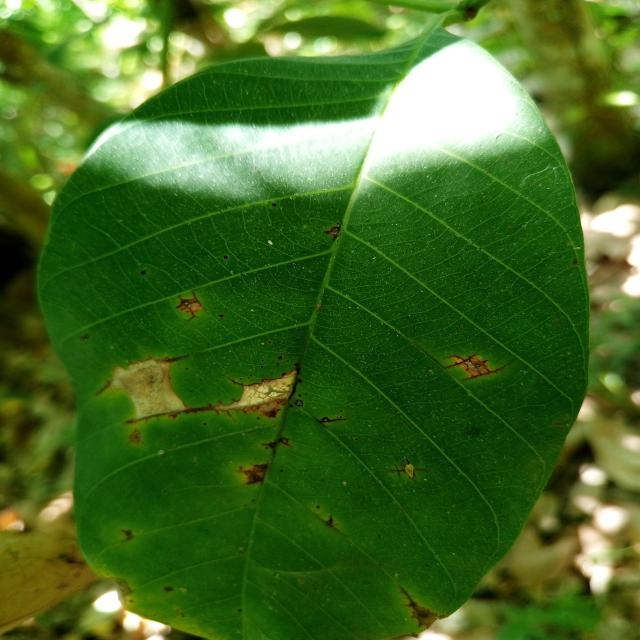Colletotrichum: (140, 270, 146, 276), (218, 314, 224, 318), (223, 256, 229, 260), (272, 204, 277, 208), (278, 356, 282, 360), (261, 359, 264, 362), (261, 366, 263, 368)
Corynespora: (127, 403, 220, 426), (441, 352, 506, 381), (398, 586, 425, 626), (177, 292, 206, 322), (386, 458, 429, 478), (287, 362, 302, 401), (313, 416, 348, 427), (261, 437, 291, 448), (323, 226, 341, 240), (228, 377, 245, 387), (324, 514, 338, 526)
Leaf-Blight: (111, 359, 186, 417), (214, 371, 296, 416)
